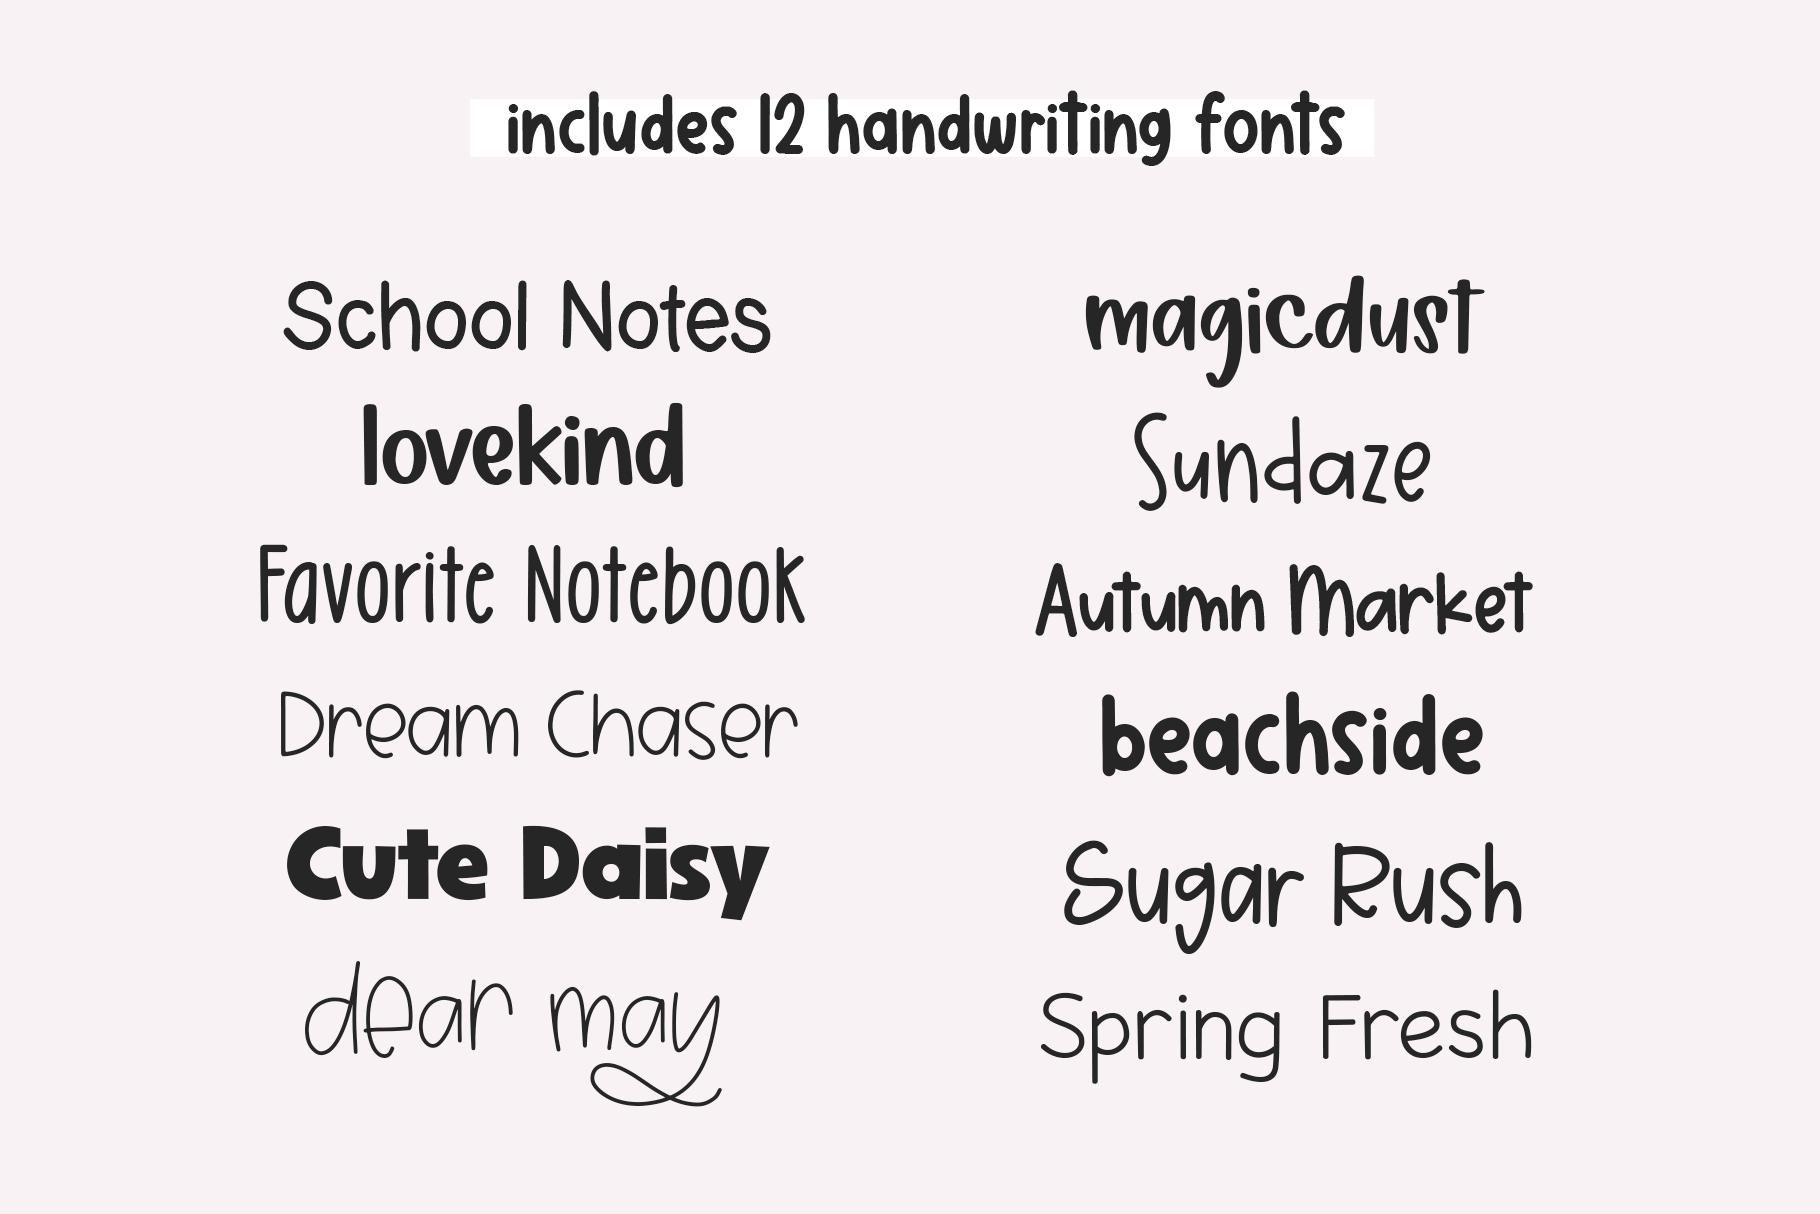text: (297, 957, 730, 1116), (498, 87, 1347, 168), (1055, 833, 1526, 959), (1033, 981, 1537, 1093), (283, 821, 773, 927), (253, 542, 814, 634), (1077, 274, 1488, 392), (1029, 558, 1536, 642), (274, 686, 806, 766), (279, 276, 781, 360), (1096, 687, 1490, 782), (1127, 408, 1435, 520), (355, 397, 691, 492)
